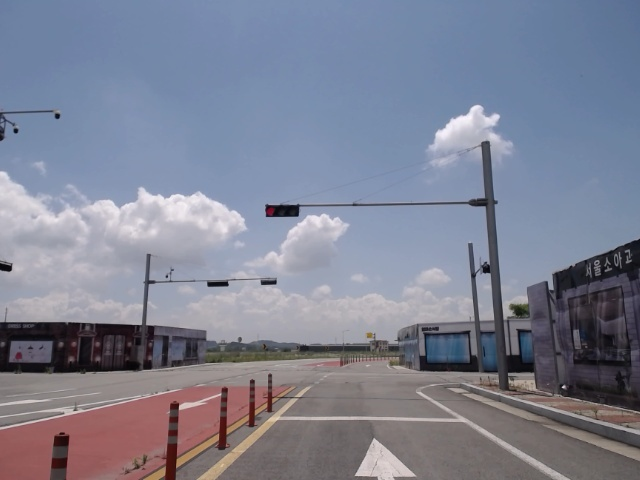red_3: (262, 205, 303, 217)
